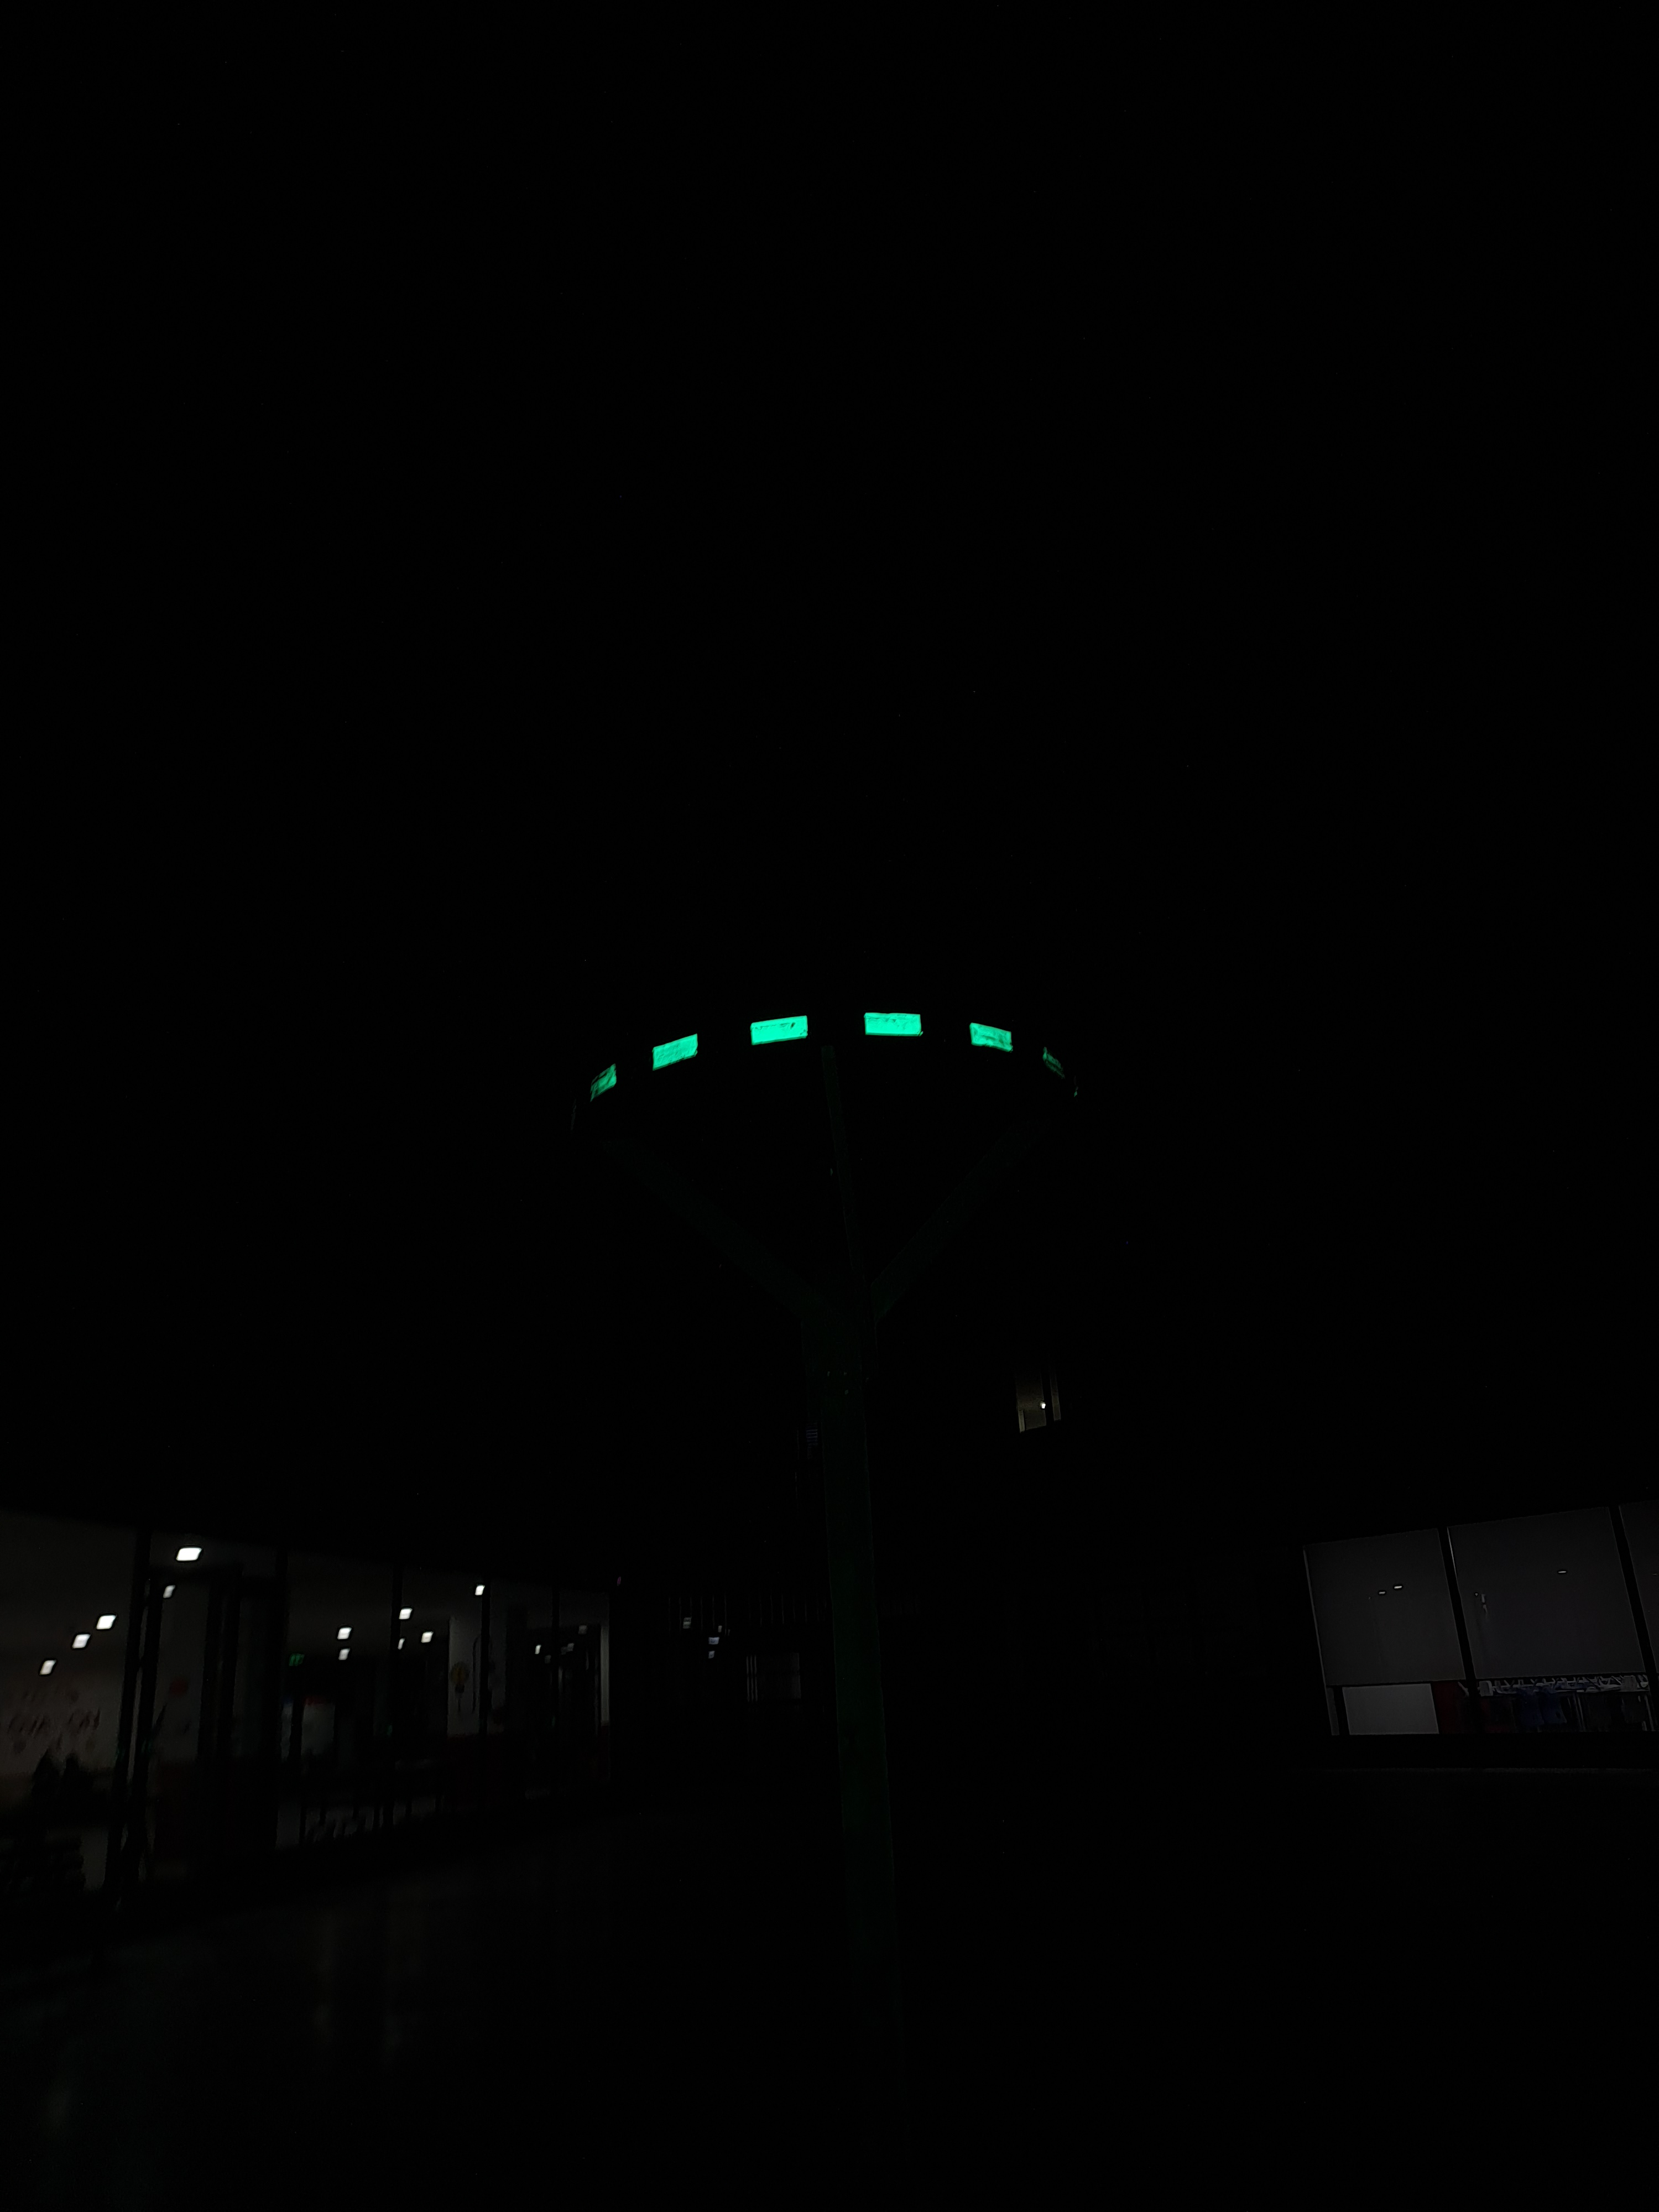hoop: (579, 1007, 1016, 1111)
